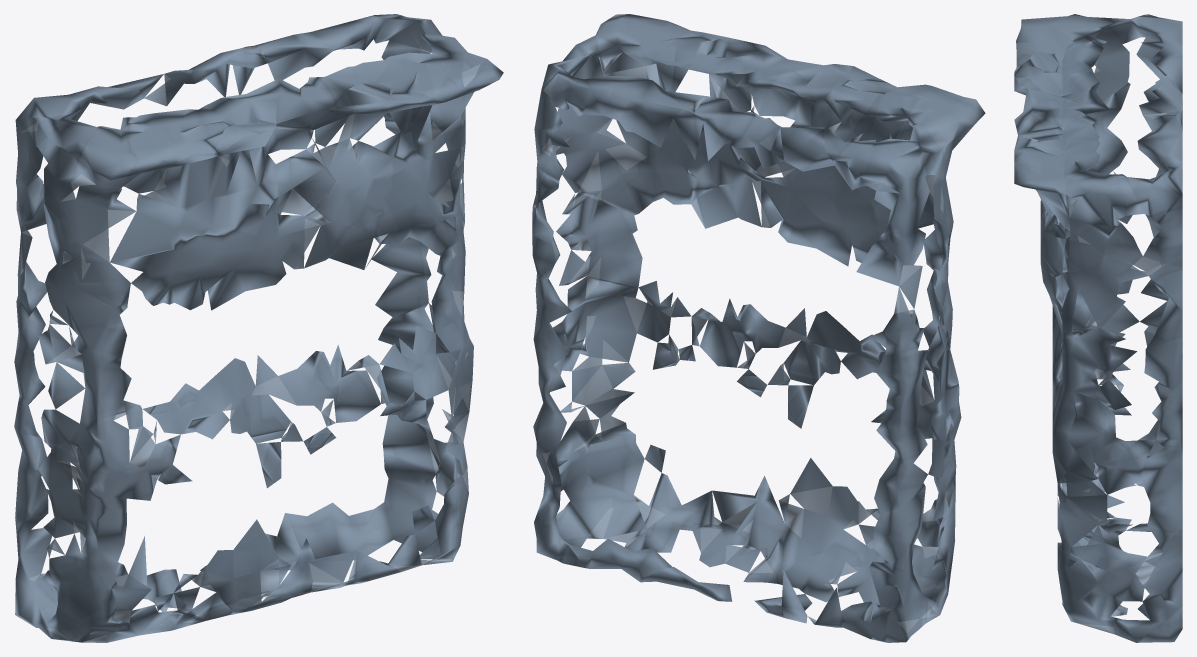
File: bed_0391_original.obj
The picture shows the model from 3 angles, left to right: view 1: azimuth 30°, elevation 25°; view 2: azimuth 150°, elevation 25°; view 3: azimuth 270°, elevation 25°; orthographic projection. The views are drawn at different scales.
Size of the model in its own units: 1.15 by 1.42 by 0.4748.
